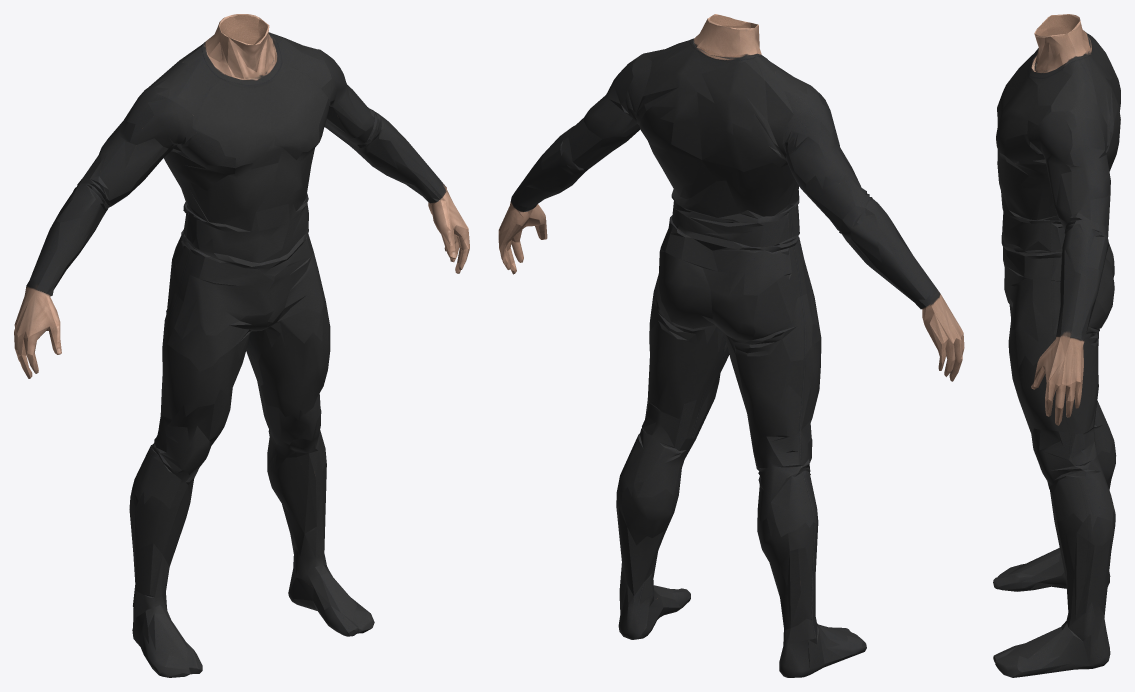
The model's file is body.glb.
3 views of the same model, side by side, from view 1: azimuth 30°, elevation 25°; view 2: azimuth 150°, elevation 25°; view 3: azimuth 270°, elevation 25° (orthographic). The views are drawn at different scales.
Parts seen in each view (by area): view 1: Mesh_0; view 2: Mesh_0; view 3: Mesh_0.
Boxes of the visible parts, left/top/right/bottom form: Mesh_0: left=14, top=14, right=469, bottom=677; Mesh_0: left=498, top=14, right=964, bottom=677; Mesh_0: left=993, top=14, right=1120, bottom=677.
Bounding box in the file's own units: 1.46 × 1.9 × 0.3631.
1 material, 1 textured.
